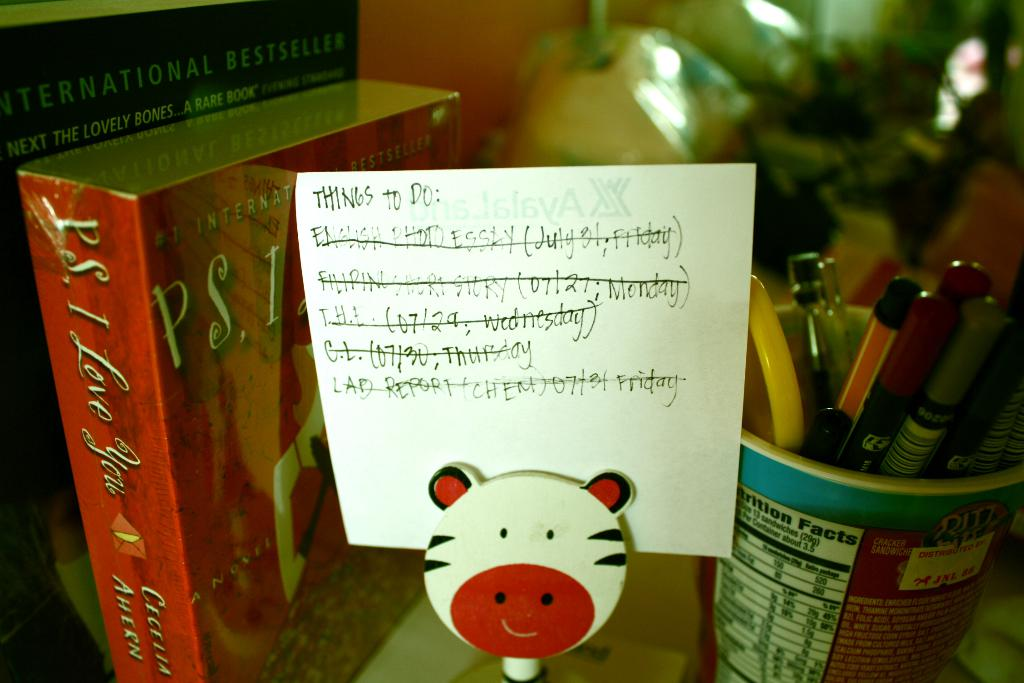Book: (17, 73, 456, 682)
